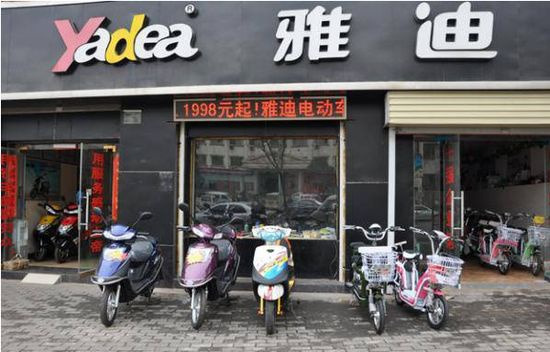non-vehicle: (89, 211, 156, 329), (177, 202, 237, 329), (338, 216, 399, 336), (400, 225, 465, 328), (247, 222, 301, 336), (483, 206, 526, 277), (50, 201, 82, 265), (28, 202, 60, 264)
